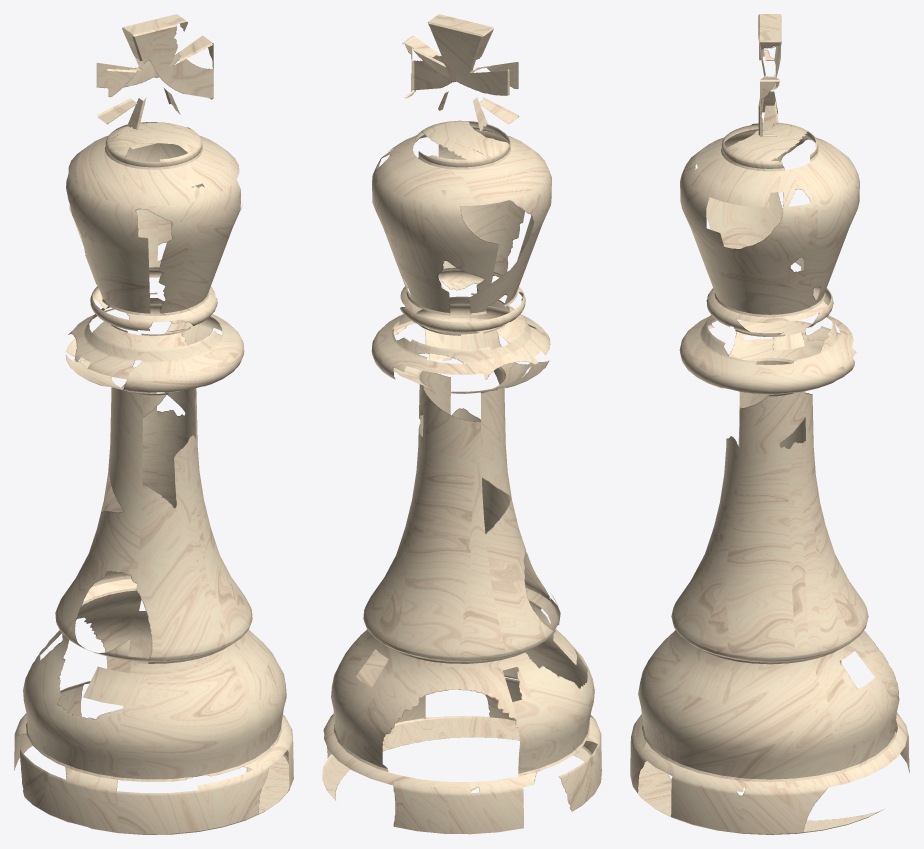
The model's file is King.fbx.
The picture shows the model from 3 angles, left to right: view 1: azimuth 30°, elevation 25°; view 2: azimuth 150°, elevation 25°; view 3: azimuth 270°, elevation 25°; orthographic projection.
Parts seen in each view (by area): view 1: Black king; view 2: Black king; view 3: Black king.
Part boxes in pixels (x1,y1,x2,y2): Black king: (14,14,293,834); Black king: (322,14,601,834); Black king: (630,14,909,834).
Size of the model in its own units: 250 by 739 by 250.
